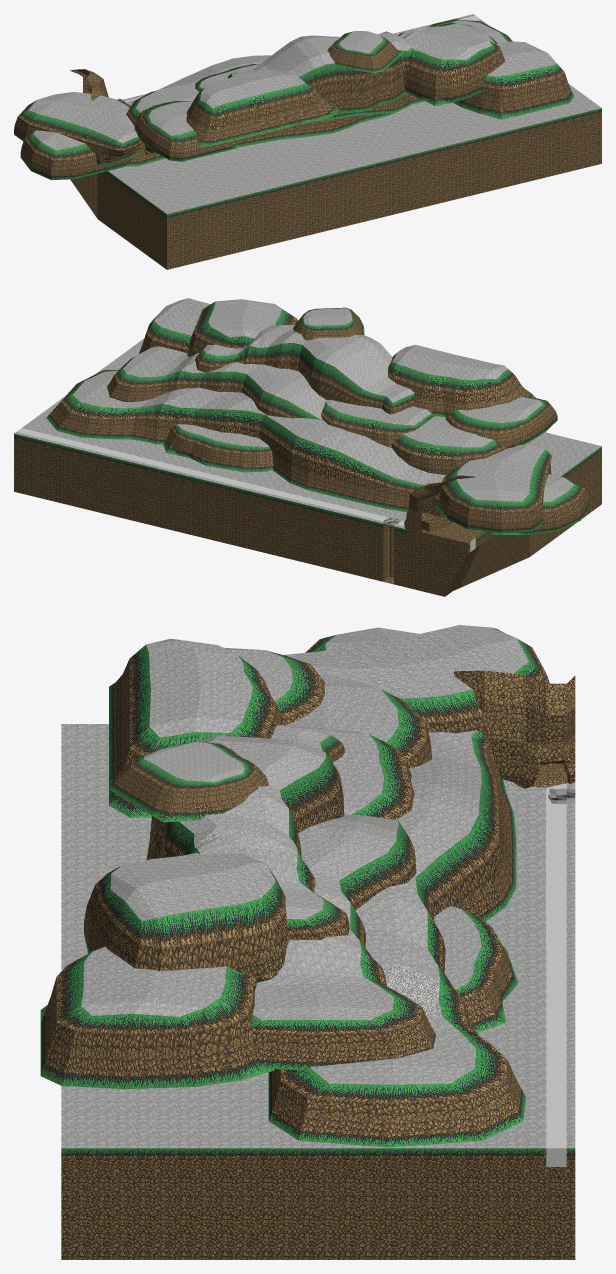
The model's file is Area00_Room00.fbx.
3 renders of one model, top to bottom at view 1: azimuth 30°, elevation 25°; view 2: azimuth 150°, elevation 25°; view 3: azimuth 270°, elevation 25°, orthographic. The views are drawn at different scales.
Visible parts, largest first — view 1: Cube.011, Cube.046, Cube.050, Cube.048, Cube.014, Cube.041, Cube.042, Cube.045, Cube.013, Cube.049, Cube.047, Cube.051 (+2 smaller); view 2: Cube.011, Cube.042, Cube.050, Cube.051, Cube.014, Cube.046, Cube.047, Cube.039, Cube.048, Cube.045, Cube.044, Cube.013 (+4 smaller); view 3: Cube.011, Cube.042, Cube.051, Cube.041, Cube.048, Cube.050, Cube.046, Cube.014, Cube.016, Cube.049, Cube.039, Cube.047 (+3 smaller).
Boxes of the visible parts, bbox=[...] form: Cube.011: bbox=[70, 14, 601, 269]; Cube.046: bbox=[186, 69, 338, 146]; Cube.050: bbox=[228, 29, 418, 113]; Cube.048: bbox=[402, 26, 505, 106]; Cube.014: bbox=[14, 92, 147, 165]; Cube.041: bbox=[453, 41, 573, 119]; Cube.042: bbox=[125, 19, 512, 166]; Cube.045: bbox=[134, 101, 237, 161]; Cube.013: bbox=[20, 130, 135, 180]; Cube.049: bbox=[327, 31, 402, 72]; Cube.047: bbox=[126, 84, 198, 153]; Cube.051: bbox=[314, 22, 497, 121]; Cube.011: bbox=[14, 338, 601, 596]; Cube.042: bbox=[46, 369, 455, 524]; Cube.050: bbox=[195, 324, 414, 414]; Cube.051: bbox=[107, 346, 326, 419]; Cube.014: bbox=[434, 444, 551, 533]; Cube.046: bbox=[388, 345, 535, 417]; Cube.047: bbox=[391, 416, 507, 474]; Cube.039: bbox=[163, 424, 273, 472]; Cube.048: bbox=[187, 299, 297, 356]; Cube.045: bbox=[445, 396, 557, 448]; Cube.044: bbox=[320, 400, 433, 447]; Cube.013: bbox=[486, 474, 589, 534]; Cube.011: bbox=[61, 724, 575, 1259]; Cube.042: bbox=[268, 730, 525, 1147]; Cube.051: bbox=[252, 814, 435, 1070]; Cube.041: bbox=[40, 946, 274, 1089]; Cube.048: bbox=[84, 853, 289, 982]; Cube.050: bbox=[146, 725, 349, 940]; Cube.046: bbox=[109, 638, 285, 817]; Cube.014: bbox=[283, 625, 549, 732]; Cube.016: bbox=[454, 670, 575, 788]; Cube.049: bbox=[108, 742, 268, 822]; Cube.039: bbox=[434, 906, 518, 1032]; Cube.047: bbox=[286, 674, 431, 768].
Size of the model in its own units: 11104 by 3210 by 5219.
